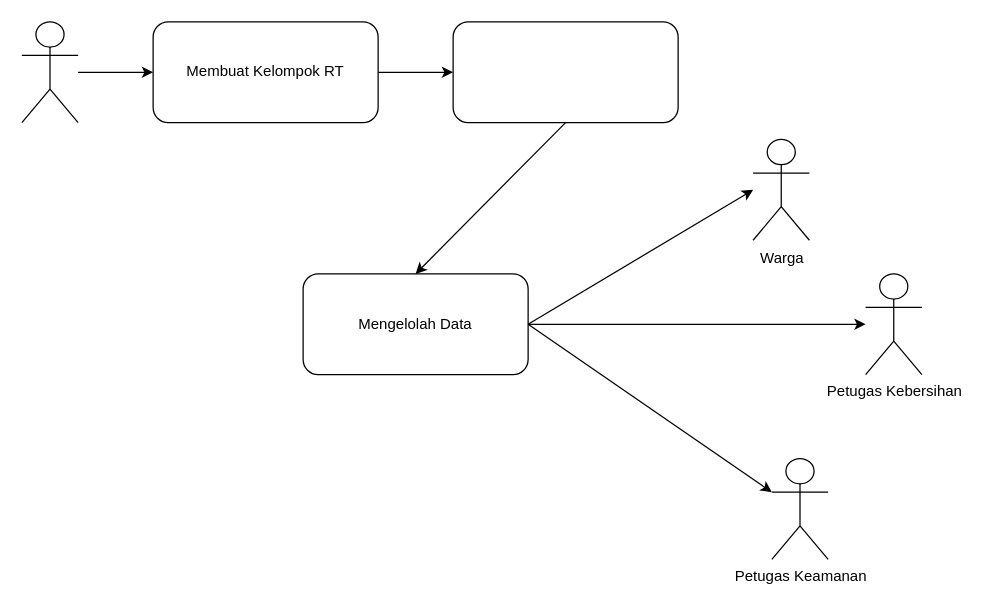
Image size: 983x608. Some labels were removed from this diagram. The shapes that lost their labels are listed below. From the top down, each one's centre as x and y in pixels, then its label:
At pixel 49 72: "Admin".
At pixel 565 72: "Login".
